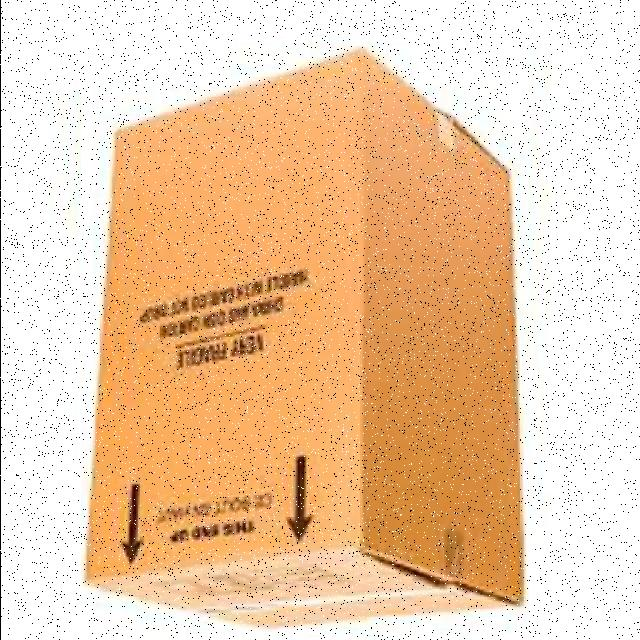normal: (80, 43, 528, 635)
